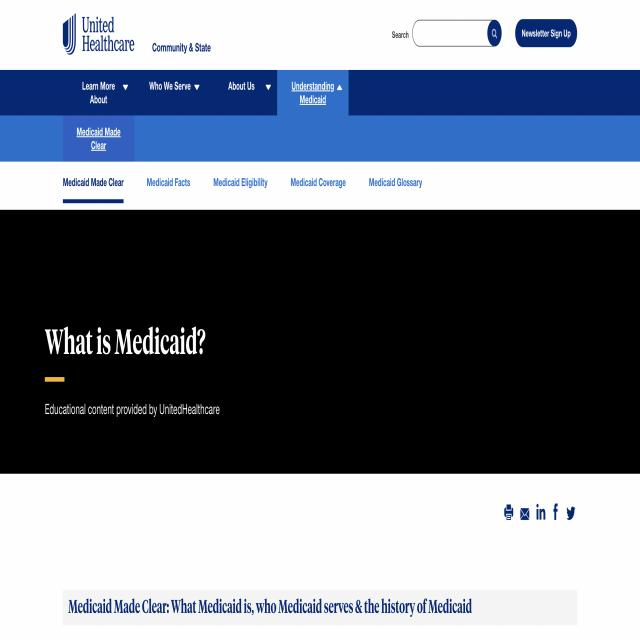Logo: (56, 6, 138, 65)
Navigation: (63, 70, 403, 115)
